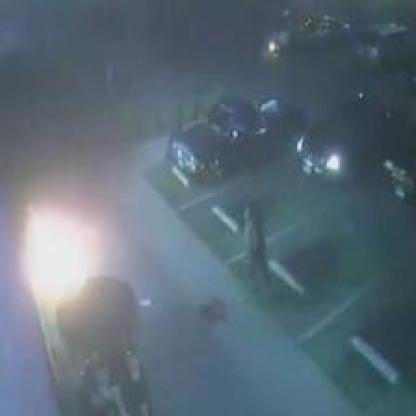fire: (15, 200, 102, 318), (266, 39, 278, 56)
